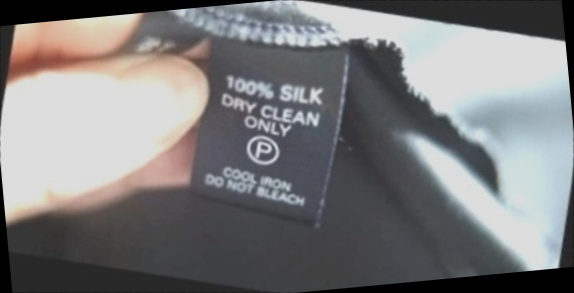dry_clean_any_solvent_except_trichloroethylene: (235, 121, 293, 178)
